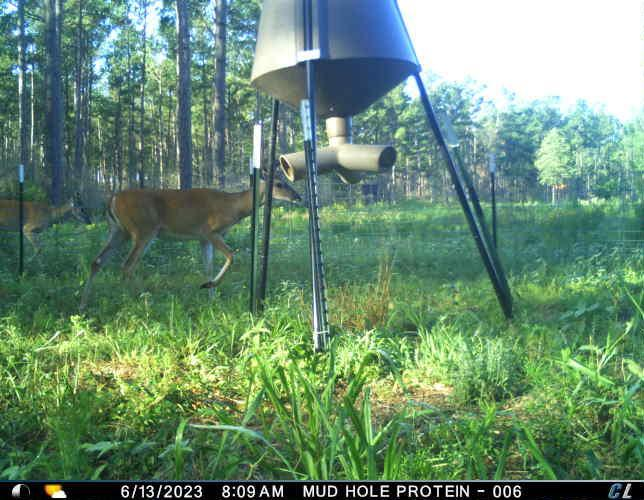Deer: (79, 161, 302, 311), (0, 193, 94, 264)
